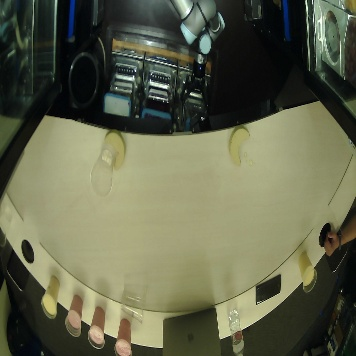empty_cup: (91, 146, 115, 197), (120, 291, 146, 323)
full_cup: (296, 250, 318, 293), (41, 276, 60, 320), (64, 293, 83, 337), (87, 305, 106, 349), (113, 317, 133, 356)
puck: (104, 130, 126, 169), (228, 126, 250, 165)
